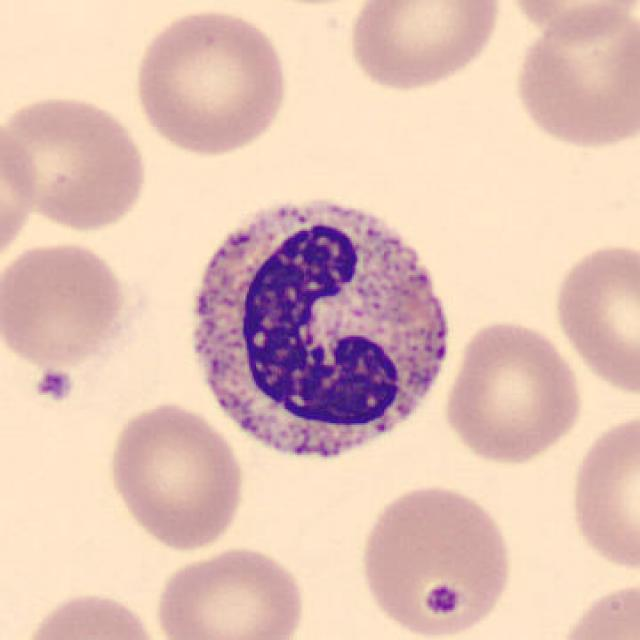Neutrophil: (172, 182, 466, 481), (172, 180, 464, 481)
Platelets: (30, 366, 76, 406), (421, 582, 464, 622)
RBC: (354, 480, 517, 638), (128, 5, 293, 159), (103, 398, 247, 554), (439, 316, 587, 467), (2, 88, 153, 235), (507, 3, 638, 154), (0, 236, 133, 370), (151, 541, 309, 640), (343, 0, 507, 95), (547, 236, 640, 400), (565, 406, 640, 576), (14, 587, 169, 640), (0, 113, 41, 270), (496, 0, 640, 41), (551, 576, 640, 640)
